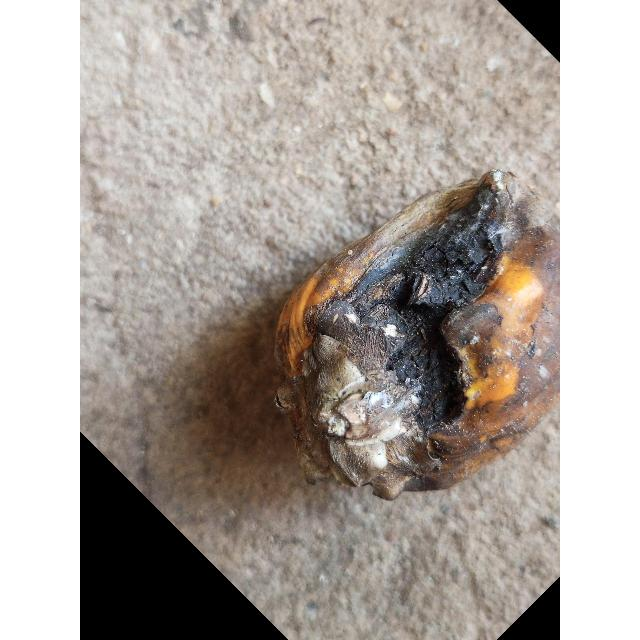damaged: (270, 172, 560, 504)
